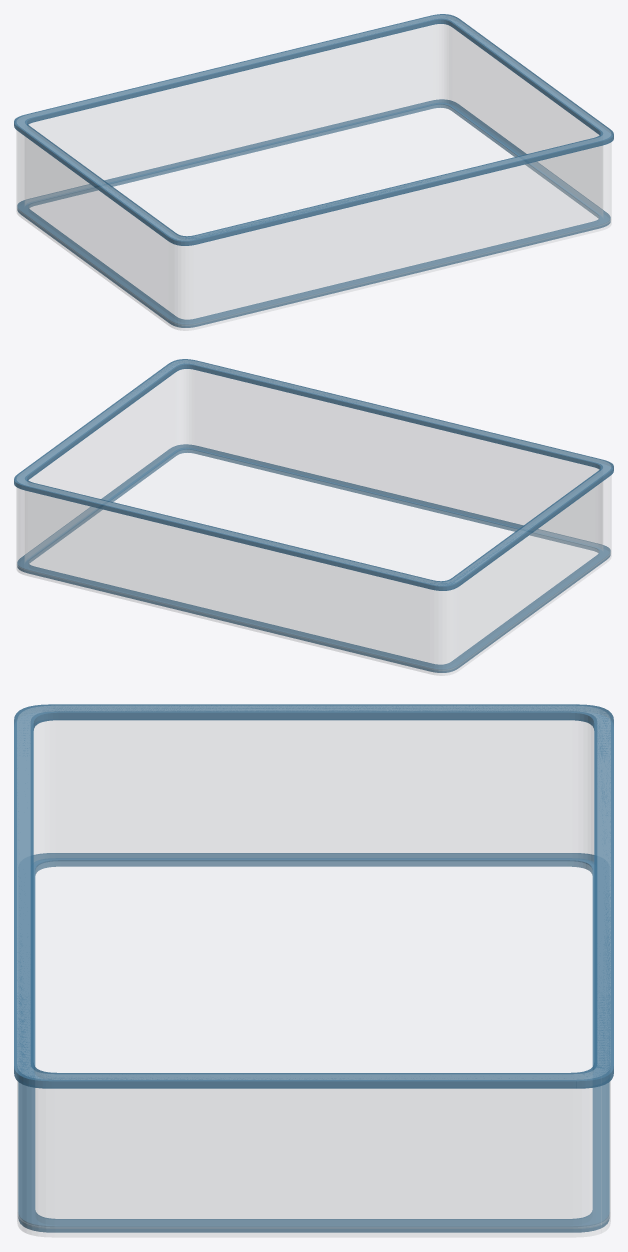
The model's file is water-trough.glb.
The picture shows the model from 3 angles, top to bottom: view 1: azimuth 30°, elevation 25°; view 2: azimuth 150°, elevation 25°; view 3: azimuth 270°, elevation 25°; orthographic projection. The views are drawn at different scales.
Parts seen in each view (by area): view 1: water-trough part 4, water-trough part 3, water-trough part 1, water-trough part 2; view 2: water-trough part 4, water-trough part 3, water-trough part 1, water-trough part 2; view 3: water-trough part 3, water-trough part 4, water-trough part 1, water-trough part 2.
Part boxes in pixels (bbox=[...]): water-trough part 4: bbox=[16, 15, 611, 325]; water-trough part 3: bbox=[16, 104, 611, 330]; water-trough part 1: bbox=[14, 14, 613, 245]; water-trough part 2: bbox=[17, 99, 610, 327]; water-trough part 4: bbox=[16, 360, 611, 670]; water-trough part 3: bbox=[16, 449, 611, 675]; water-trough part 1: bbox=[14, 359, 613, 590]; water-trough part 2: bbox=[17, 444, 610, 672]; water-trough part 3: bbox=[17, 861, 610, 1237]; water-trough part 4: bbox=[17, 706, 610, 1228]; water-trough part 1: bbox=[14, 704, 613, 1088]; water-trough part 2: bbox=[18, 853, 609, 1232].
Size of the model in its own units: 0.428 by 0.0835 by 0.288.
